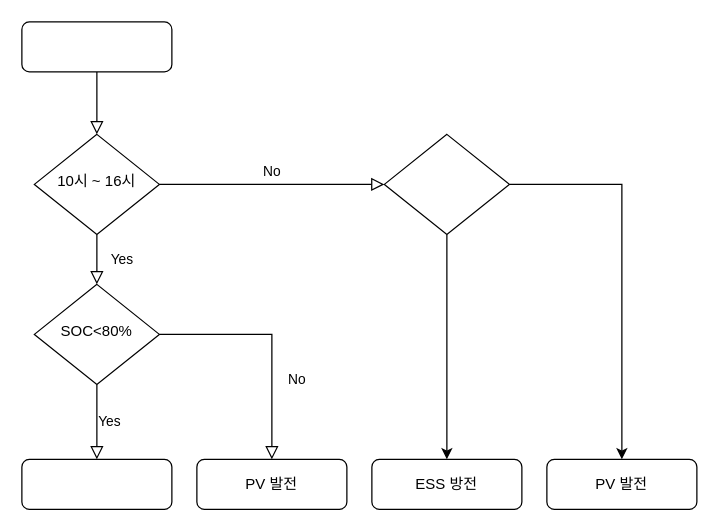
Some shapes in this 719 by 531 pixel diagram are drawn without their labels. Each missing label, with the box of its shape:
ESS 충전: (21, 458, 172, 509)
SOC>10%: (383, 133, 509, 234)
시작: (21, 21, 172, 72)
